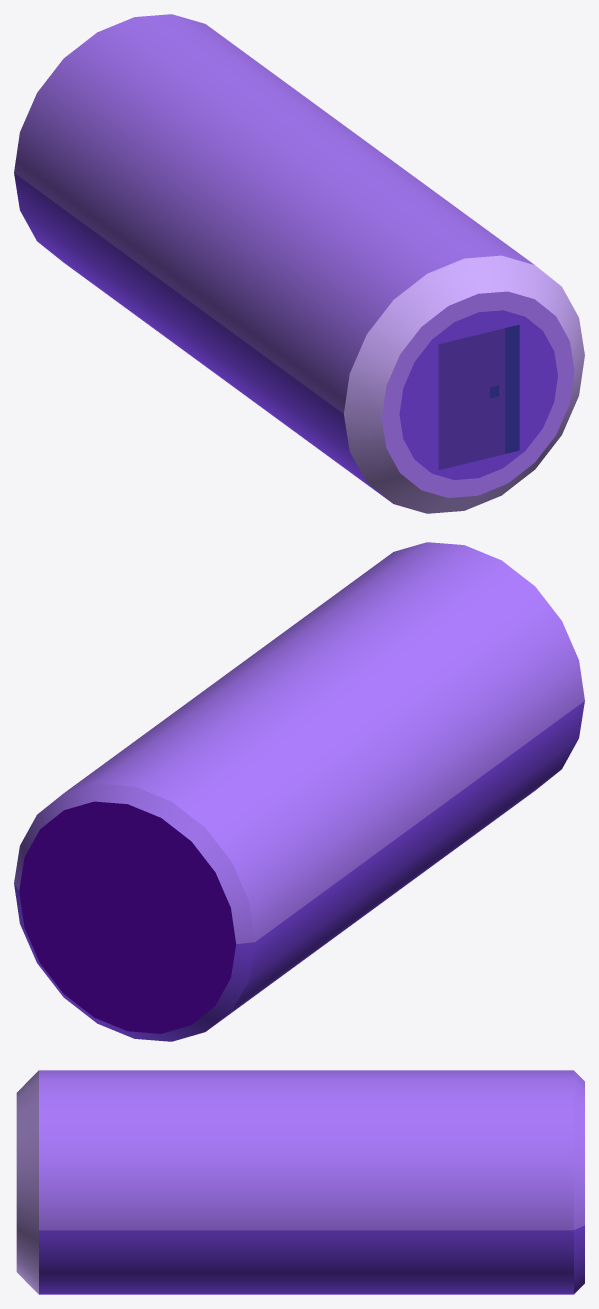
File: Building_014_c.fbx
3 views of the same model, one above another, from view 1: azimuth 30°, elevation 25°; view 2: azimuth 150°, elevation 25°; view 3: azimuth 270°, elevation 25° (orthographic). The views are drawn at different scales.
Parts seen in each view (by area): view 1: Building_014_c; view 2: Building_014_c; view 3: Building_014_c.
Part boxes in pixels (x1,y1,x2,y2): Building_014_c: (14,14,584,513); Building_014_c: (14,542,584,1041); Building_014_c: (16,1070,584,1294).
Bounding box in the file's own units: 5.7 × 5.7 × 14.41.
